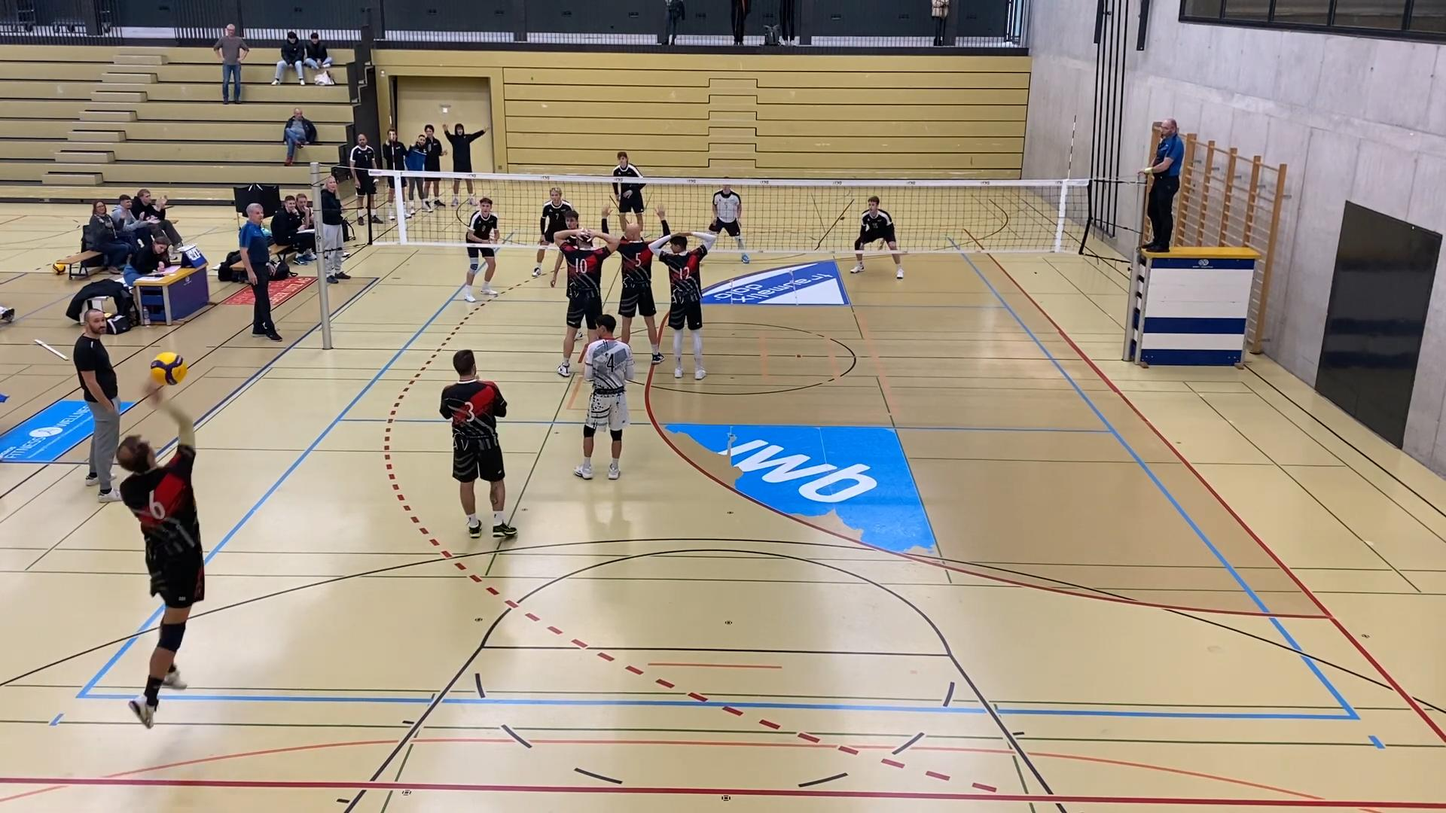Player: (440, 350, 516, 537), (648, 232, 716, 379), (554, 211, 612, 376), (575, 314, 633, 479), (613, 223, 662, 363), (851, 196, 903, 279), (464, 196, 498, 302), (532, 187, 572, 277), (708, 183, 749, 261), (613, 180, 645, 227)
Serve: (112, 383, 210, 732)
ball: (146, 349, 189, 387)
